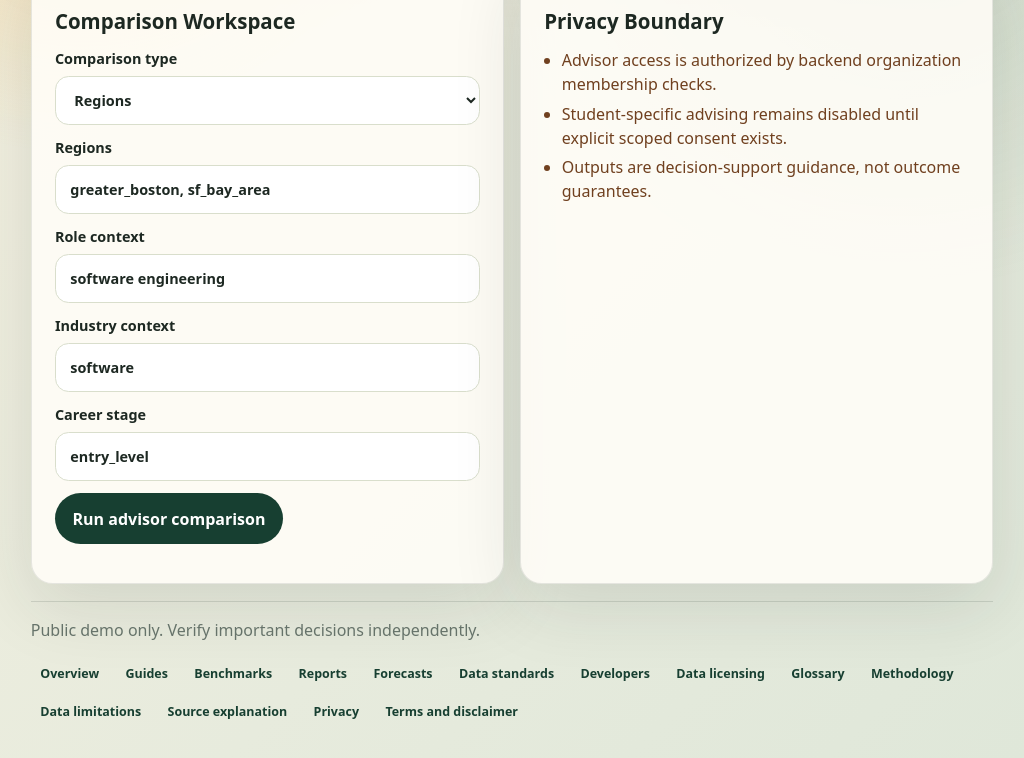
it: institutional advisor tools UI › advisor route runs a guidance comparison without student-level fields
(page scrolled)
Check: the dropdown labelled "Comparison type" is shown, box [55,76,480,125]
Check: the list item "Student-specific advising remains disabled" is shown, box [562,103,919,149]
Step 1. Click the button "Run advisor comparison" → (169, 518), box [55,493,283,544]
(page scrolled)
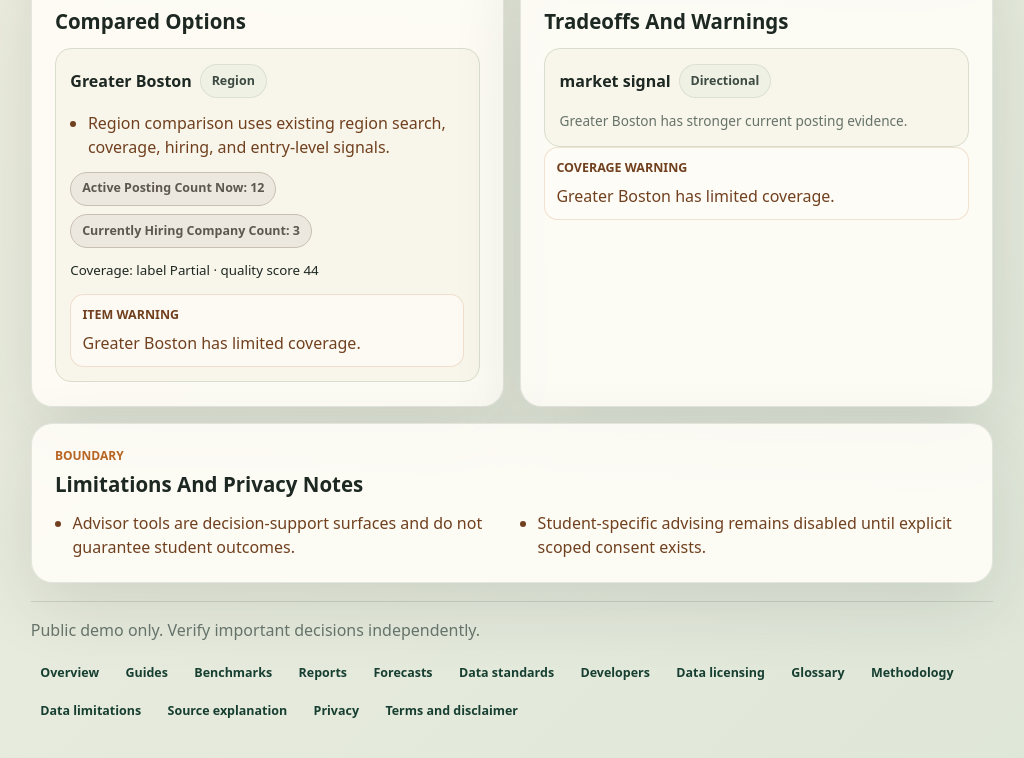
Check: the text "Greater Boston" is shown, box [70,69,192,93]
Check: the text "Greater Boston has stronger current posting evidence." is shown, box [560,111,954,131]
Check: the text "Coverage warning" is shown, box [556,159,687,178]
